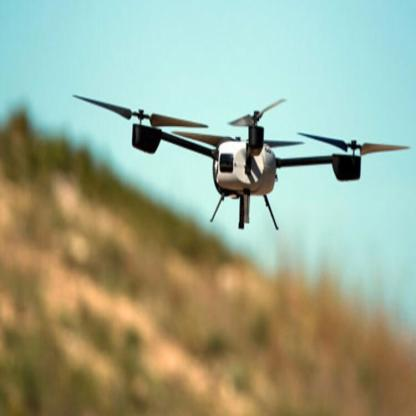drone: (69, 74, 414, 219)
